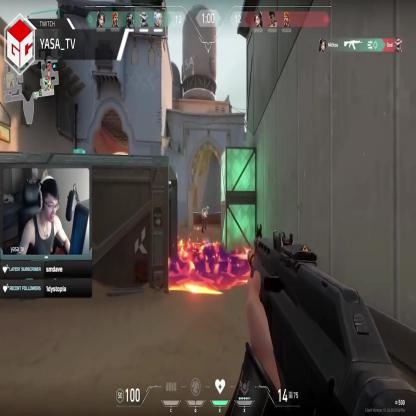enemy: (202, 206, 207, 232)
enemy_head: (204, 206, 206, 213)
